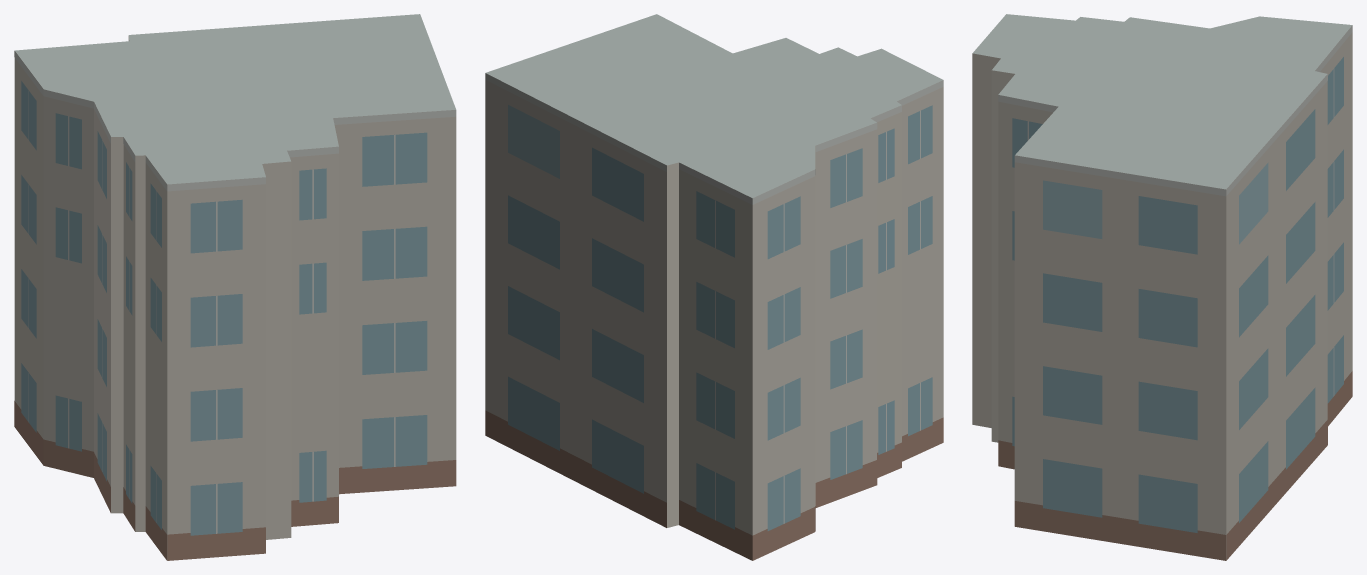
The model's file is survey-upis-32460518.glb.
3 renders of one model, left to right at view 1: azimuth 30°, elevation 25°; view 2: azimuth 150°, elevation 25°; view 3: azimuth 270°, elevation 25°, orthographic. The views are drawn at different scales.
Visible parts, largest first — view 1: survey-upis-32460518.tmp; view 2: survey-upis-32460518.tmp; view 3: survey-upis-32460518.tmp.
Boxes of the visible parts, box(x1,y1,x2,y2) form: survey-upis-32460518.tmp: box(14, 14, 456, 560); survey-upis-32460518.tmp: box(485, 14, 943, 560); survey-upis-32460518.tmp: box(972, 14, 1352, 560).
Size of the model in its own units: 13.38 by 13.2 by 12.26.
